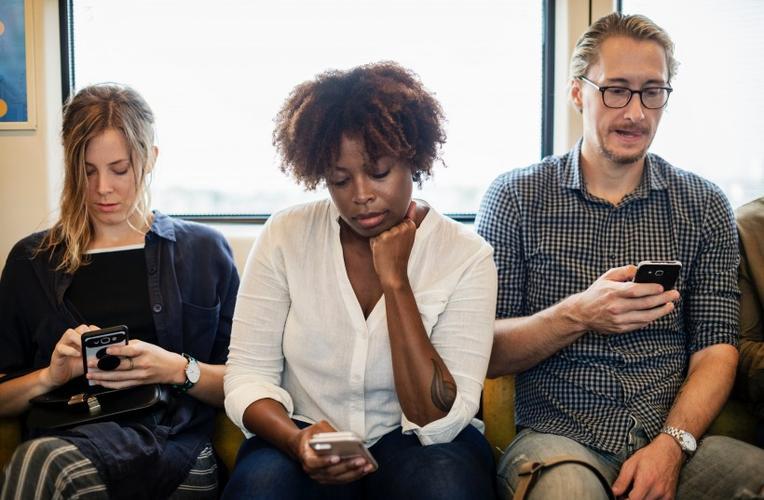reading: (570, 249, 684, 339), (42, 320, 176, 391), (290, 415, 383, 487)
